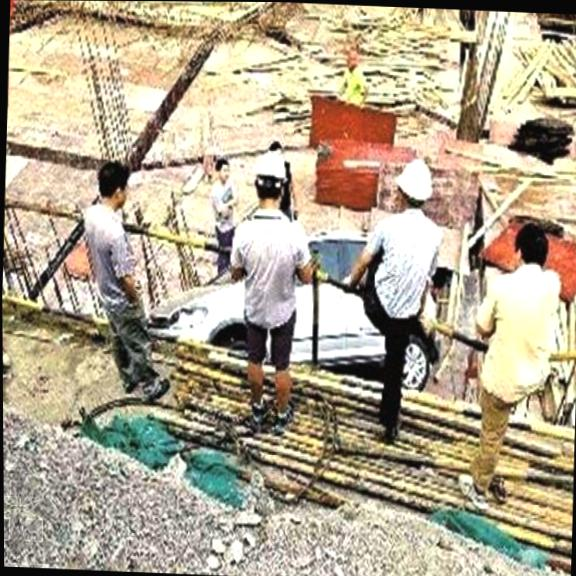no_safety_vest: (480, 261, 566, 400), (228, 211, 305, 333), (367, 213, 441, 319), (83, 205, 133, 315), (211, 180, 238, 237)
